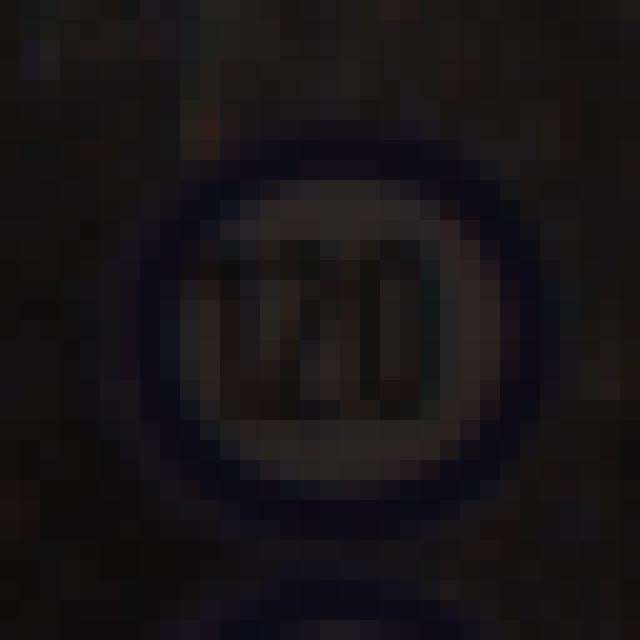SPEED LIMIT 120: (132, 141, 534, 523)
